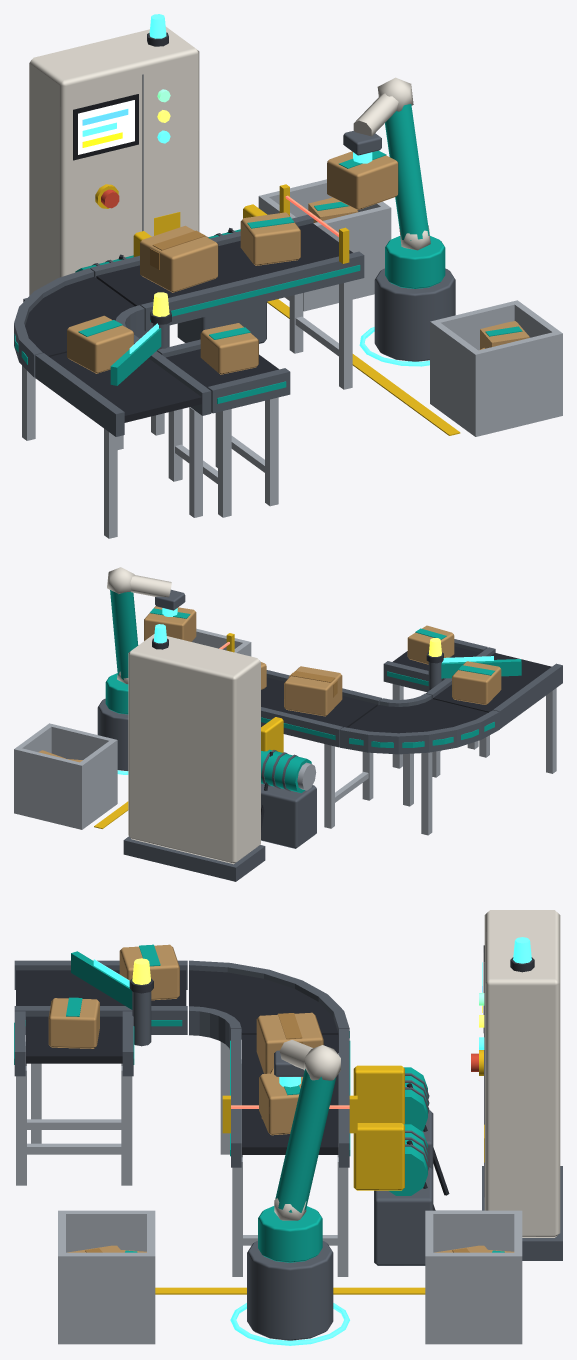
The model's file is station_transport_3.glb.
3 views of the same model, one above another, from view 1: azimuth 30°, elevation 25°; view 2: azimuth 150°, elevation 25°; view 3: azimuth 270°, elevation 25° (orthographic). The views are drawn at different scales.
Visible parts, largest first — view 1: station_transport_3; view 2: station_transport_3; view 3: station_transport_3.
Part boxes in pixels (x1=…): station_transport_3: x1=14, y1=14, x2=562, y2=538; station_transport_3: x1=14, y1=567, x2=562, y2=881; station_transport_3: x1=14, y1=910, x2=562, y2=1345.
Bounding box in the file's own units: 2.18 × 1.25 × 2.03.
